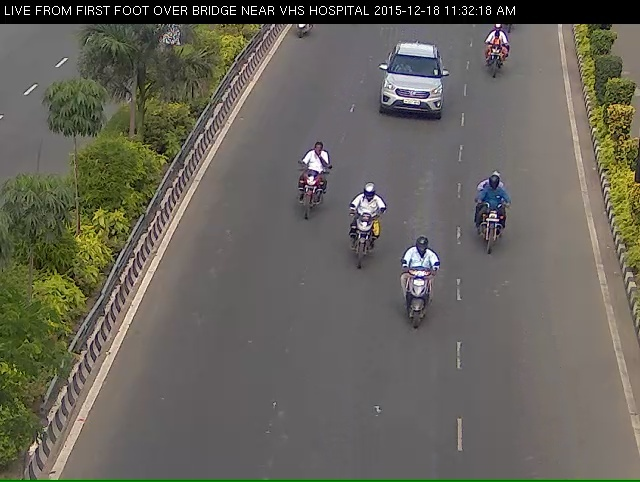Car: (362, 49, 456, 143)
Person: (456, 190, 529, 272), (397, 264, 451, 360), (272, 154, 328, 246), (343, 205, 386, 298), (483, 32, 514, 92)
